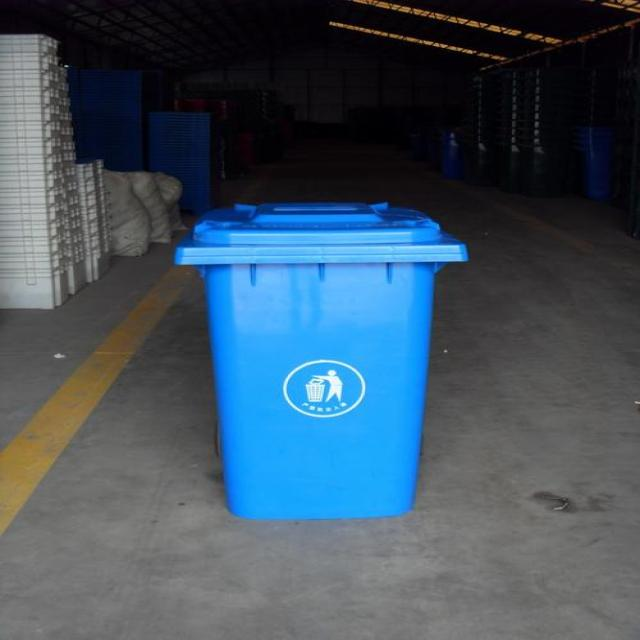garbage_bin: (174, 202, 467, 519)
